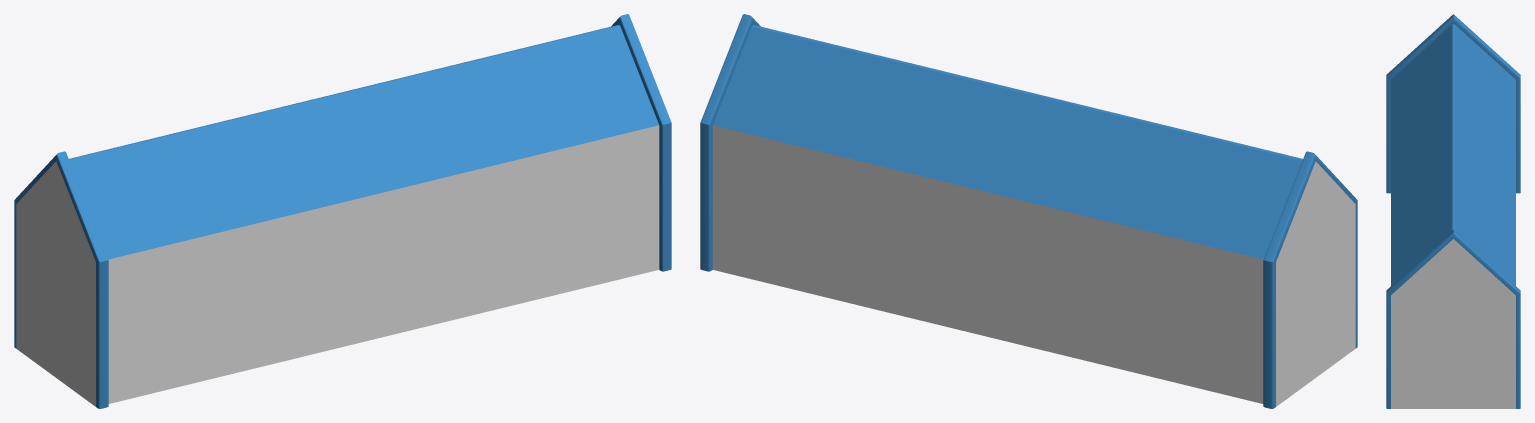
Rendered from lck2.fbx.
3 views of the same model, side by side, from view 1: azimuth 30°, elevation 25°; view 2: azimuth 150°, elevation 25°; view 3: azimuth 270°, elevation 25° (orthographic). The views are drawn at different scales.
Parts seen in each view (by area): view 1: pCube1; view 2: pCube1; view 3: pCube1.
Part boxes in pixels (x1=…): pCube1: x1=14, y1=14, x2=671, y2=408; pCube1: x1=700, y1=14, x2=1357, y2=408; pCube1: x1=1386, y1=14, x2=1520, y2=408.
Size of the model in its own units: 16.6 by 6.21 by 4.3.
